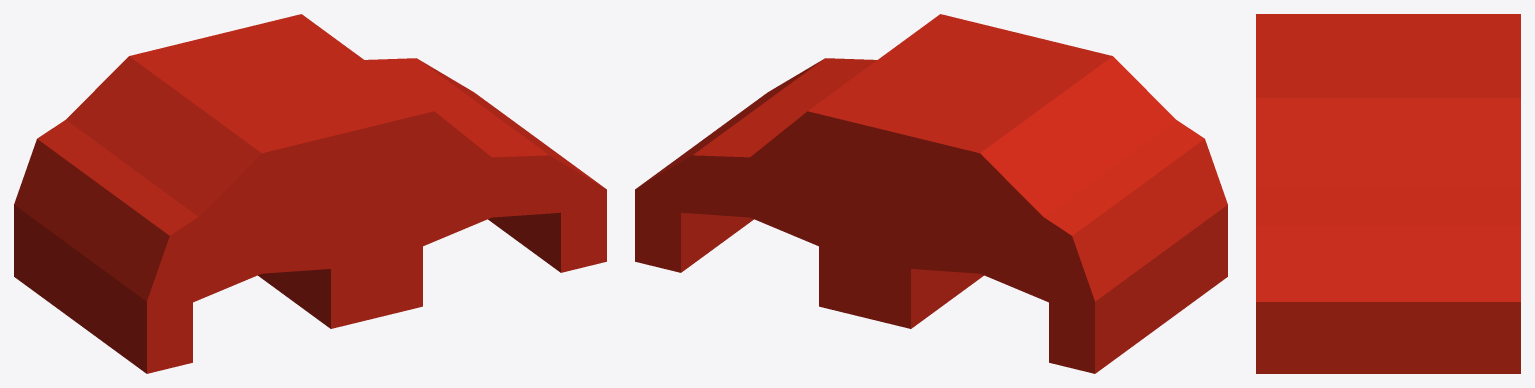
File: follow_platform.dae
3 views of the same model, side by side, from view 1: azimuth 30°, elevation 25°; view 2: azimuth 150°, elevation 25°; view 3: azimuth 270°, elevation 25° (orthographic).
Visible parts, largest first — view 1: Cube; view 2: Cube; view 3: Cube.
Boxes of the visible parts, bbox=[...] form: Cube: bbox=[14, 14, 606, 373]; Cube: bbox=[635, 14, 1227, 373]; Cube: bbox=[1256, 14, 1520, 373].
Size of the model in its own units: 4 by 2 by 1.6.
